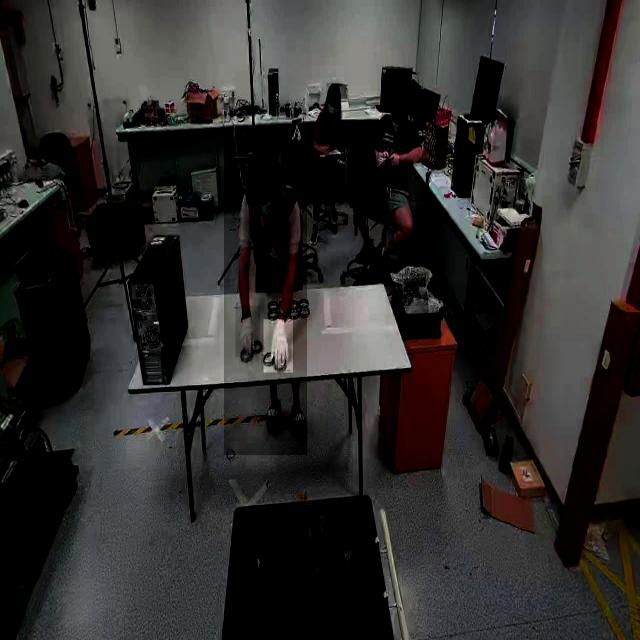face_mask: (252, 192, 276, 220), (327, 93, 341, 119), (392, 115, 406, 133)
hand_glove: (264, 319, 294, 373), (236, 306, 260, 358)
hand_noglove: (388, 148, 400, 169), (379, 148, 389, 166), (323, 142, 330, 156)
head_nohelmet: (248, 141, 280, 183), (393, 97, 408, 115), (326, 83, 341, 95)
person: (224, 136, 308, 456), (368, 91, 422, 254), (312, 65, 344, 251)
